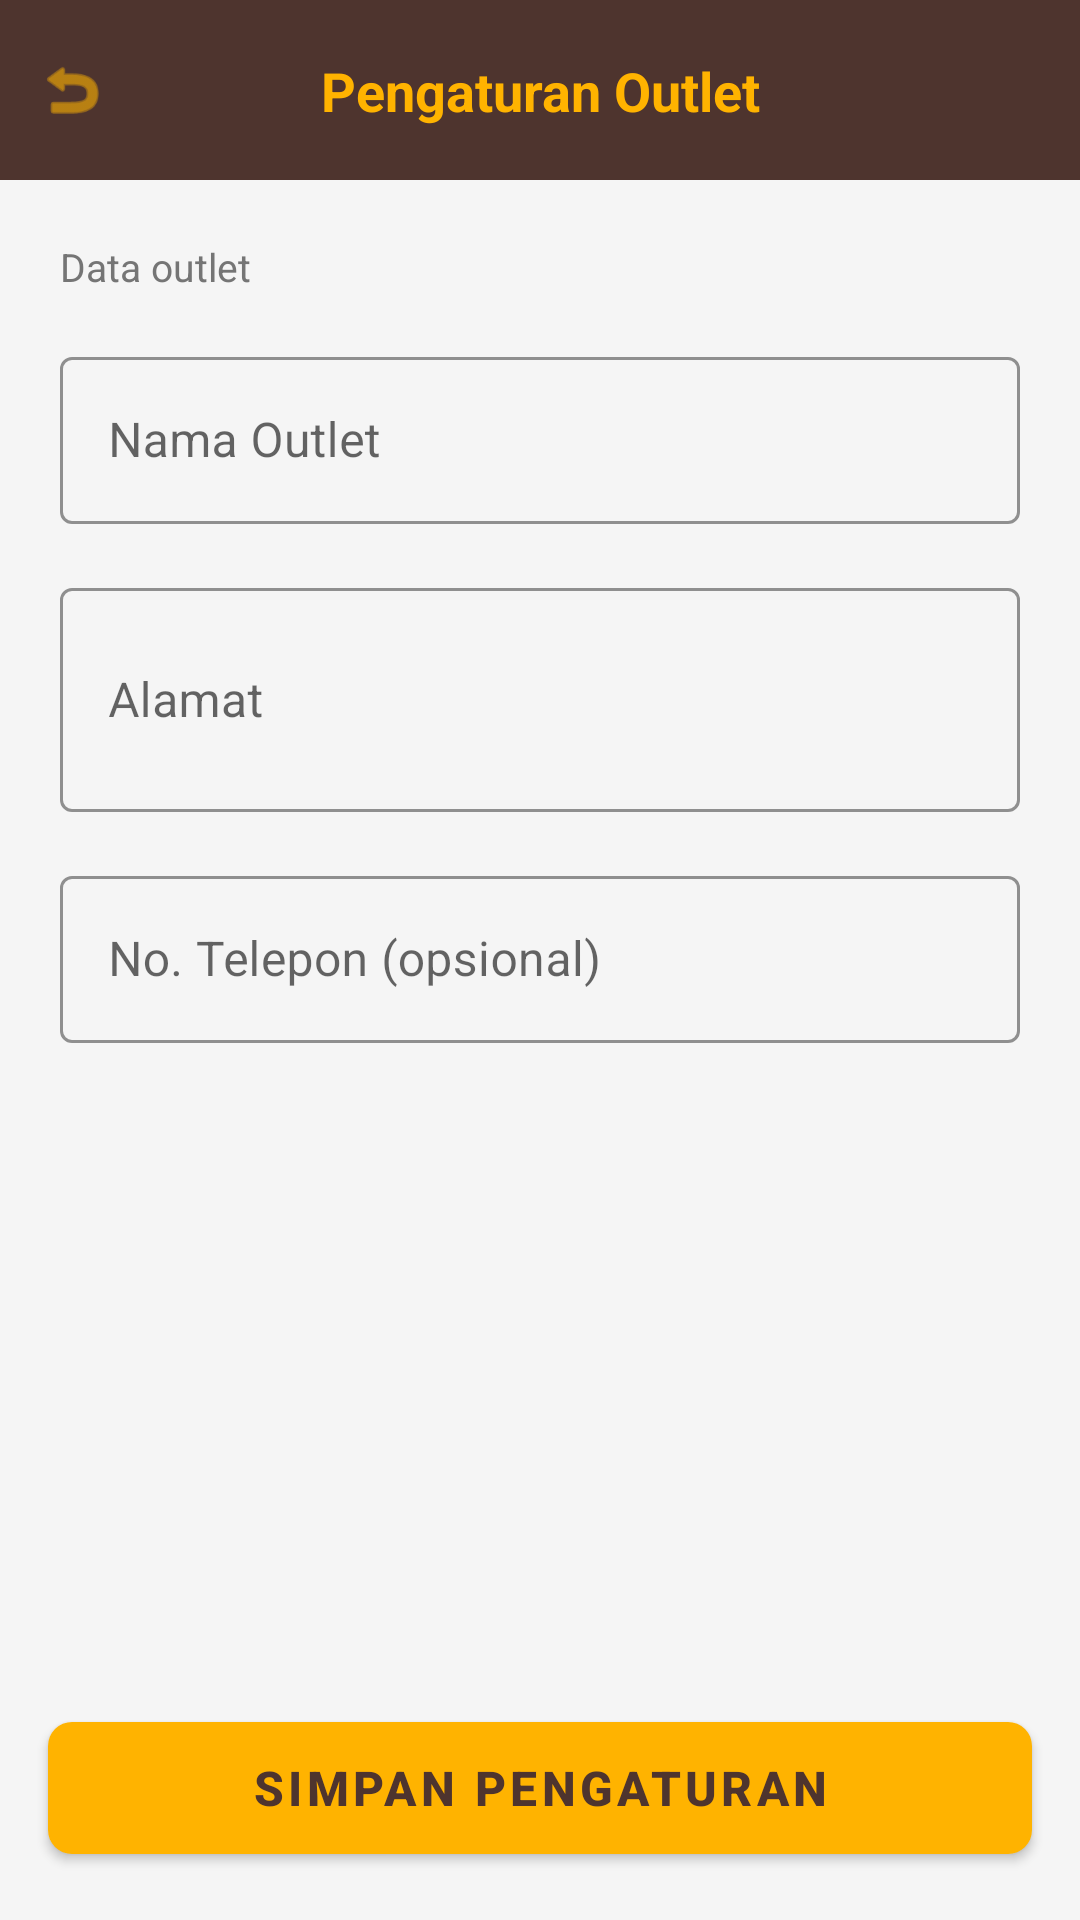

Named icons in this screenshot (1080px×1920px) and their bounding boxes, (x1, y1, x2, y2):
revert: (47, 67, 99, 114)
